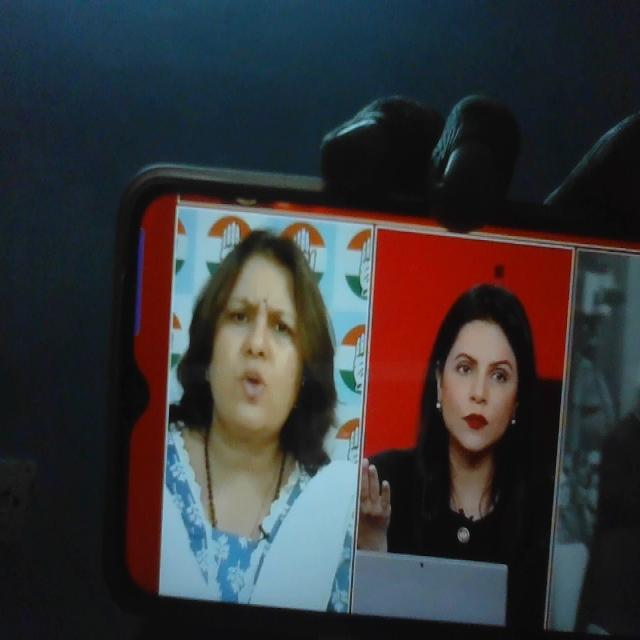fake: (198, 229, 312, 444), (425, 269, 536, 480)
